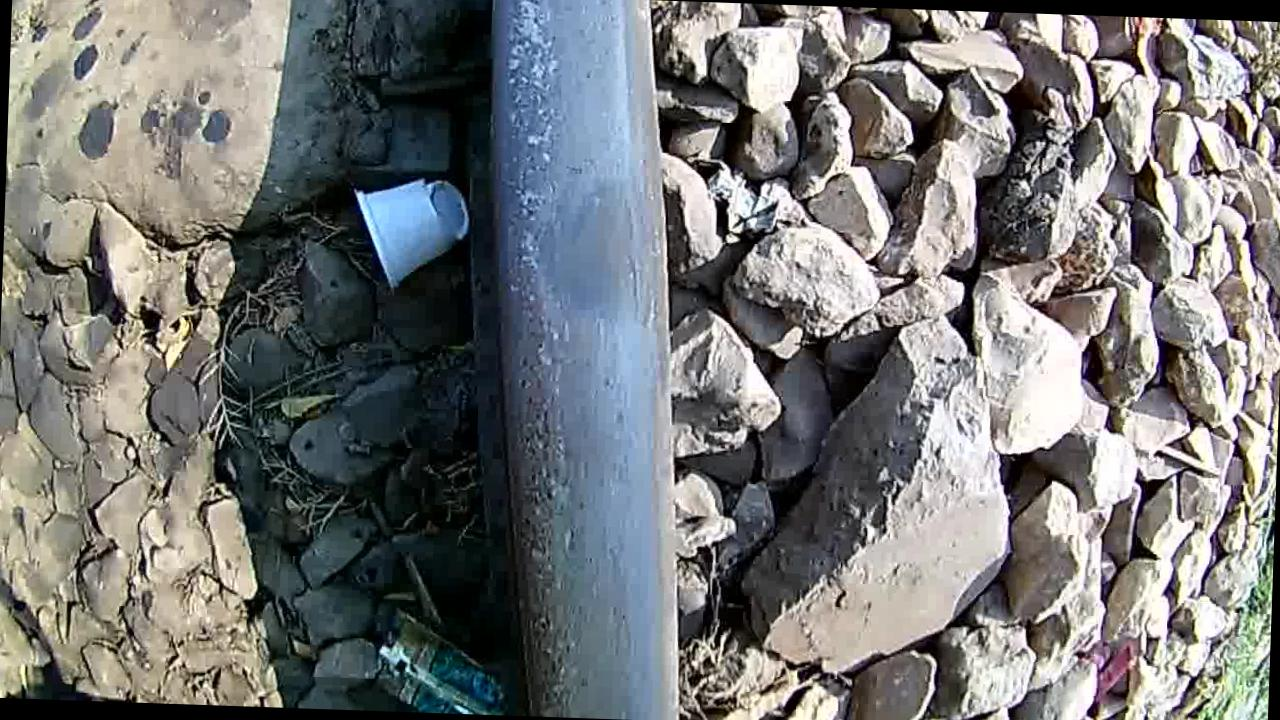bolt_missing: (504, 147, 675, 367)
